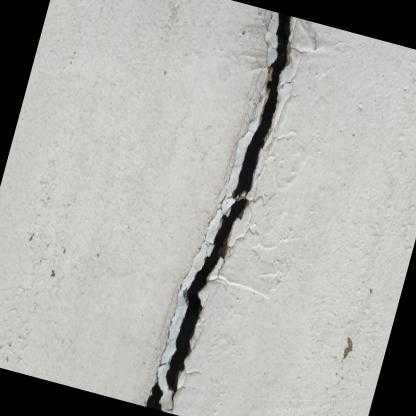crack: (163, 11, 292, 411), (144, 366, 163, 411)
